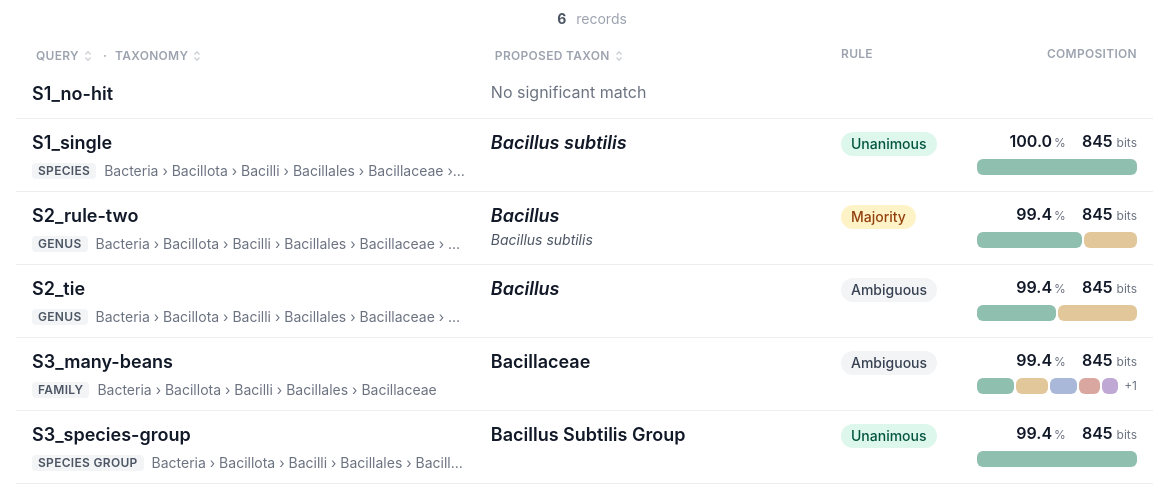
Test case: Table › sorting › Taxonomy sorts by the lineage
Click the button with aria-label "Sort by Taxonomy" at (160, 56), box x1=111 y1=46 x2=208 y2=66
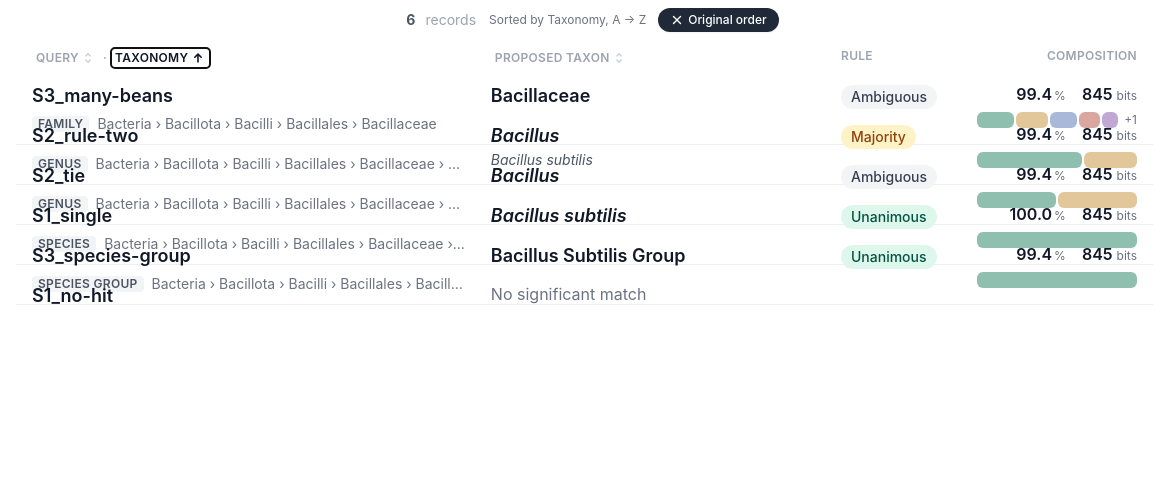
Expected: the button "S3_many-beans" is shown, x1=32 y1=82 x2=173 y2=110
Expected: the button "S1_no-hit" is shown, x1=32 y1=282 x2=113 y2=310
